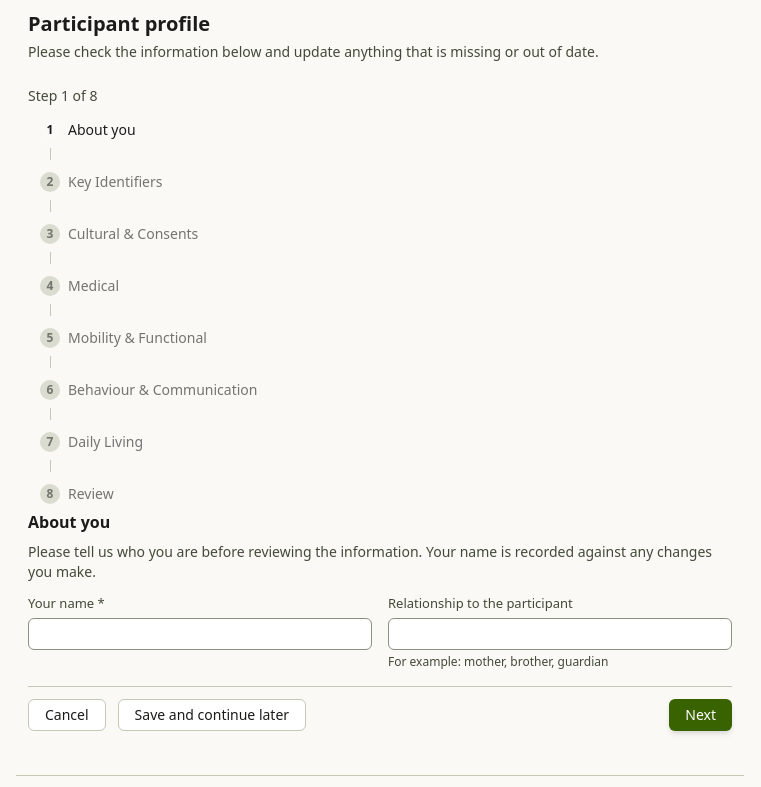
Test: CaregiverWizardPage - typing while a save is in flight › does nothing when the refetch is identical, and reads twice
Expected: the field labelled "Your name *" is shown, [28,618,372,650]
Type "Mother" into the field labelled "Relationship to the participant". click: (560,634)
box: [388,618,732,650]
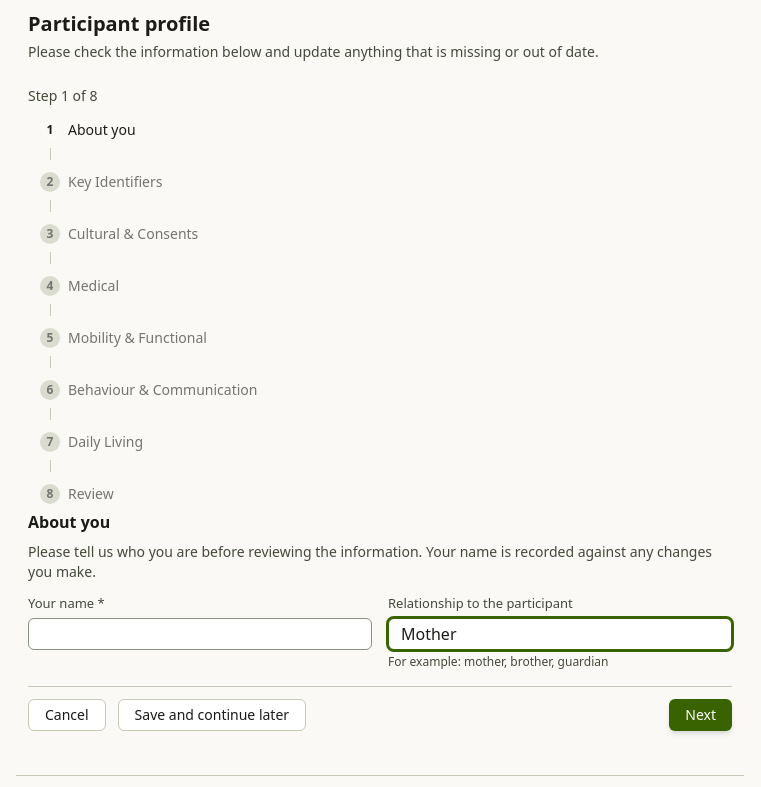
Type "Jane Doe" into the field labelled "Your name *". click: (200,634)
box: [28,618,372,650]
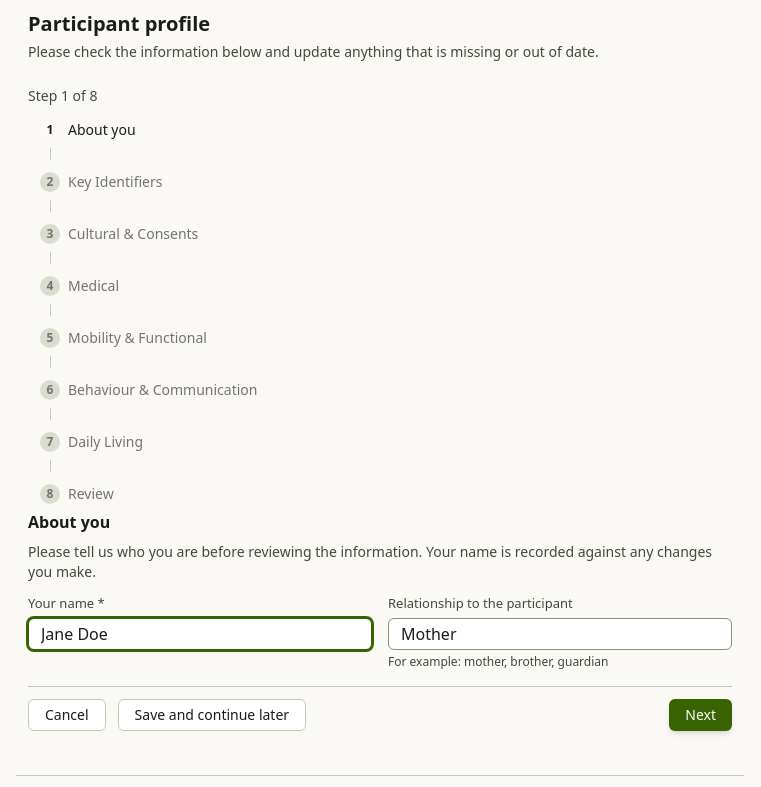
Click the button "Save and continue later". click: (212,714)
box: [118,698,306,730]
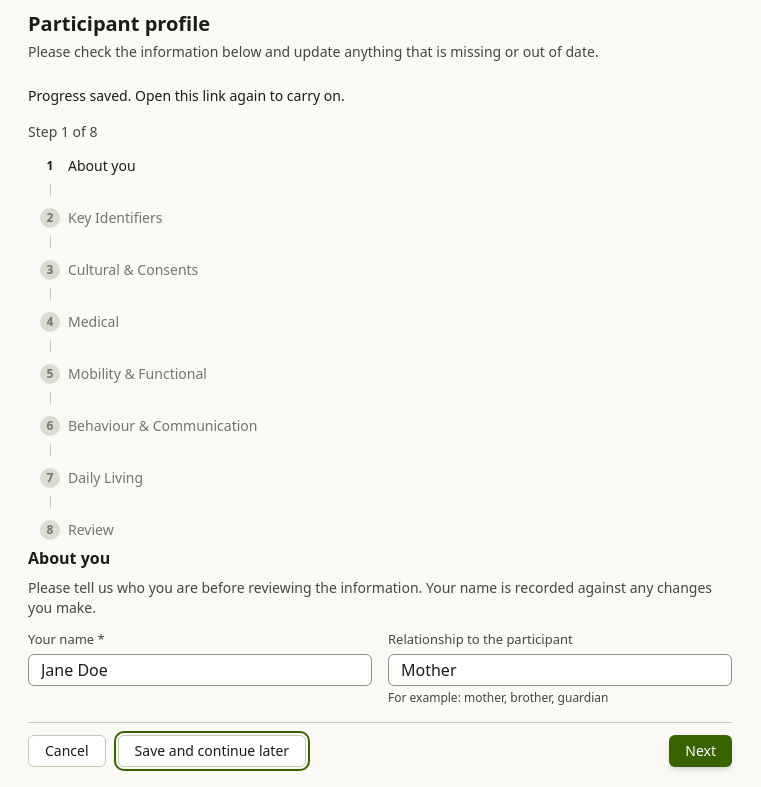
Expected: the text "Progress saved. Open this link again to carry on." is shown, [28,86,345,105]
